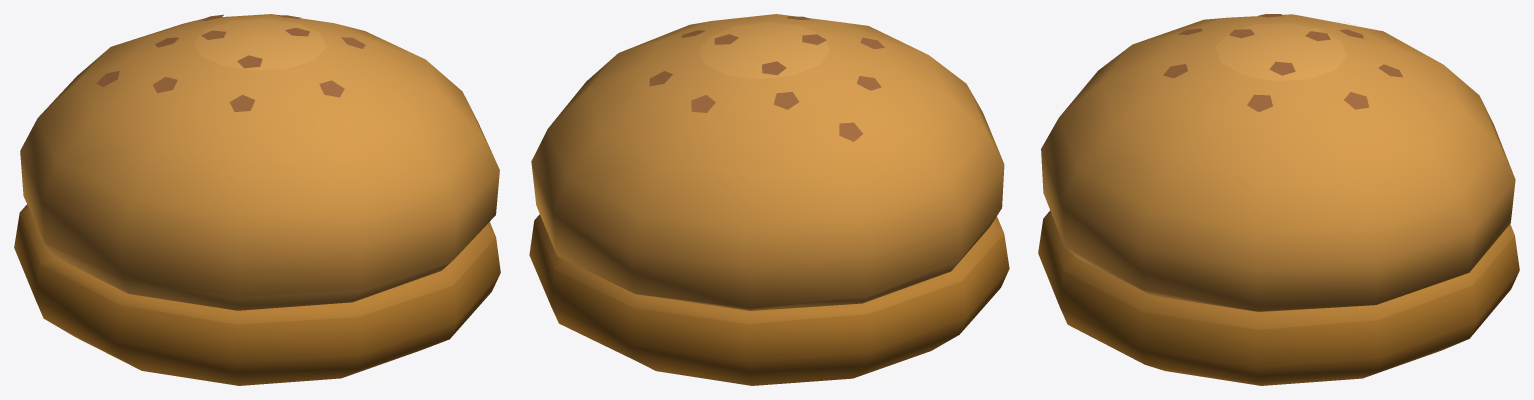
Rendered from BurgerBum.glb.
3 renders of one model, left to right at view 1: azimuth 30°, elevation 25°; view 2: azimuth 150°, elevation 25°; view 3: azimuth 270°, elevation 25°, orthographic.
Visible parts, largest first — view 1: BurgerBum; view 2: BurgerBum; view 3: BurgerBum.
Part boxes in pixels (bbox=[...]): BurgerBum: bbox=[14, 14, 500, 385]; BurgerBum: bbox=[529, 14, 1009, 385]; BurgerBum: bbox=[1038, 14, 1519, 385].
Bounding box in the file's own units: 0.215 × 0.1278 × 0.2149.
Materials: 1 (1 with a texture image).
